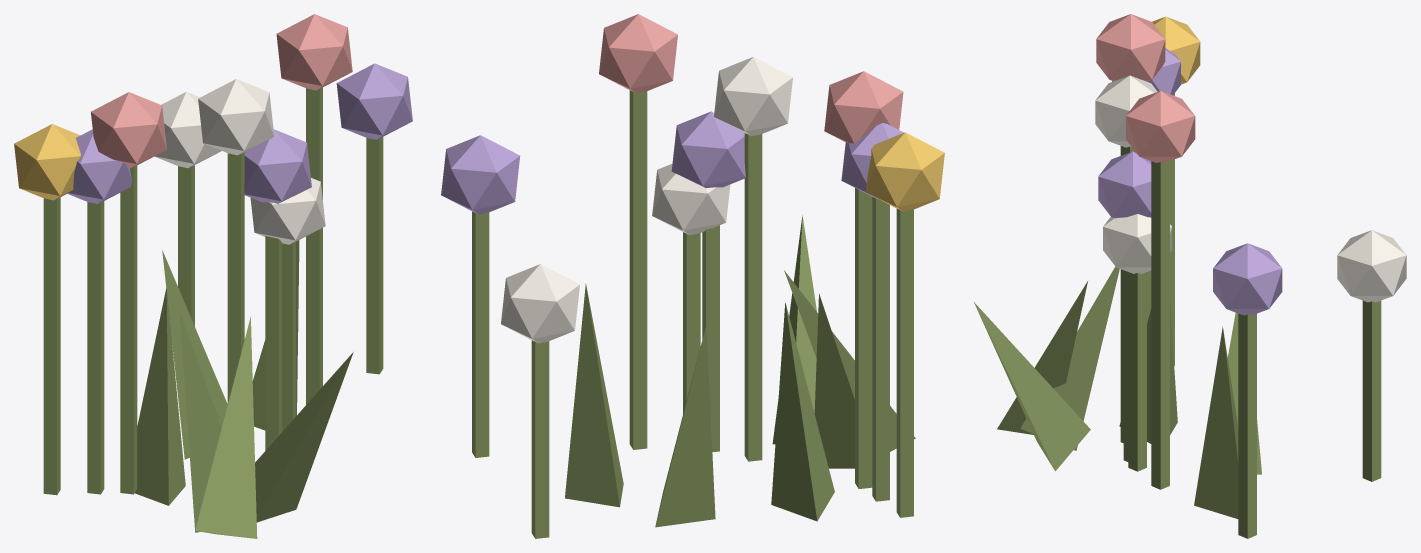
Rendered from flowers.glb.
3 renders of one model, left to right at view 1: azimuth 30°, elevation 25°; view 2: azimuth 150°, elevation 25°; view 3: azimuth 270°, elevation 25°, orthographic. The views are drawn at different scales.
Visible parts, largest first — view 1: Cone, Cone.002, Cone.001, Cylinder.008, Cylinder.005, Cylinder.004, Icosphere.001, Icosphere.006, Icosphere.003, Icosphere.008, Cylinder.001, Cylinder.006 (+12 smaller); view 2: Cone.002, Cone.004, Cylinder.001, Cylinder.003, Cone.005, Cylinder.005, Cylinder.004, Cylinder.008, Icosphere, Icosphere.006, Icosphere.001, Icosphere.003 (+12 smaller); view 3: Cylinder.001, Cone.001, Cone.004, Cylinder.006, Icosphere, Icosphere.001, Icosphere.006, Icosphere.008, Cylinder.007, Cylinder, Cone.003, Icosphere.002 (+10 smaller).
Boxes of the visible parts, left/top/right/bottom form: Cone: left=195, top=316, right=257, bottom=538; Cone.002: left=135, top=287, right=185, bottom=505; Cone.001: left=255, top=352, right=353, bottom=522; Cylinder.008: left=120, top=165, right=137, bottom=494; Cylinder.005: left=43, top=197, right=60, bottom=495; Cylinder.004: left=87, top=201, right=104, bottom=494; Icosphere.001: left=276, top=14, right=352, bottom=90; Icosphere.006: left=336, top=63, right=412, bottom=139; Icosphere.003: left=198, top=79, right=274, bottom=155; Icosphere.008: left=91, top=92, right=166, bottom=168; Cylinder.001: left=306, top=87, right=322, bottom=404; Cylinder.006: left=366, top=137, right=383, bottom=374; Cone.002: left=771, top=302, right=834, bottom=521; Cone.004: left=565, top=283, right=623, bottom=507; Cylinder.001: left=629, top=90, right=647, bottom=449; Cylinder.003: left=744, top=133, right=762, bottom=461; Cone.005: left=655, top=325, right=715, bottom=527; Cylinder.005: left=896, top=209, right=913, bottom=517; Cylinder.004: left=872, top=197, right=889, bottom=501; Cylinder.008: left=855, top=188, right=872, bottom=488; Icosphere: left=501, top=264, right=579, bottom=343; Icosphere.006: left=441, top=135, right=520, bottom=214; Icosphere.001: left=599, top=14, right=677, bottom=93; Icosphere.003: left=714, top=57, right=792, bottom=135; Cylinder.001: left=1151, top=161, right=1169, bottom=489; Cone.001: left=974, top=302, right=1090, bottom=471; Cone.004: left=1194, top=326, right=1238, bottom=518; Cylinder.006: left=1238, top=313, right=1256, bottom=538; Icosphere: left=1337, top=230, right=1406, bottom=302; Icosphere.001: left=1126, top=91, right=1195, bottom=162; Icosphere.006: left=1213, top=243, right=1282, bottom=315; Icosphere.008: left=1096, top=14, right=1165, bottom=81; Cylinder.007: left=1128, top=272, right=1146, bottom=471; Cylinder: left=1362, top=300, right=1381, bottom=481; Cone.003: left=1020, top=266, right=1119, bottom=450; Icosphere.002: left=1098, top=151, right=1151, bottom=218.
Bounding box in the file's own units: 0.4072 × 0.3975 × 0.3723.
